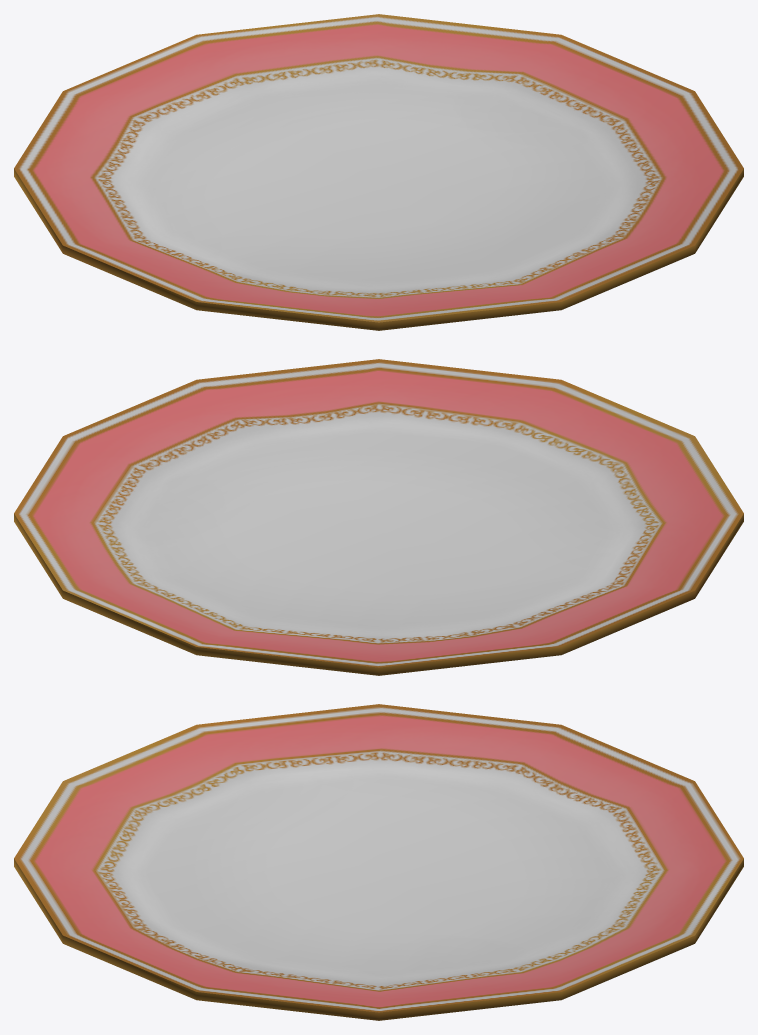
Rendered from DishA.fbx.
3 renders of one model, top to bottom at view 1: azimuth 30°, elevation 25°; view 2: azimuth 150°, elevation 25°; view 3: azimuth 270°, elevation 25°, orthographic.
Visible parts, largest first — view 1: Empty_Mesh; view 2: Empty_Mesh; view 3: Empty_Mesh.
Part boxes in pixels (x1=…): Empty_Mesh: x1=14, y1=14, x2=743, y2=330; Empty_Mesh: x1=14, y1=359, x2=743, y2=675; Empty_Mesh: x1=14, y1=704, x2=743, y2=1020.
Size of the model in its own units: 0.56 by 0.0455 by 0.56.
